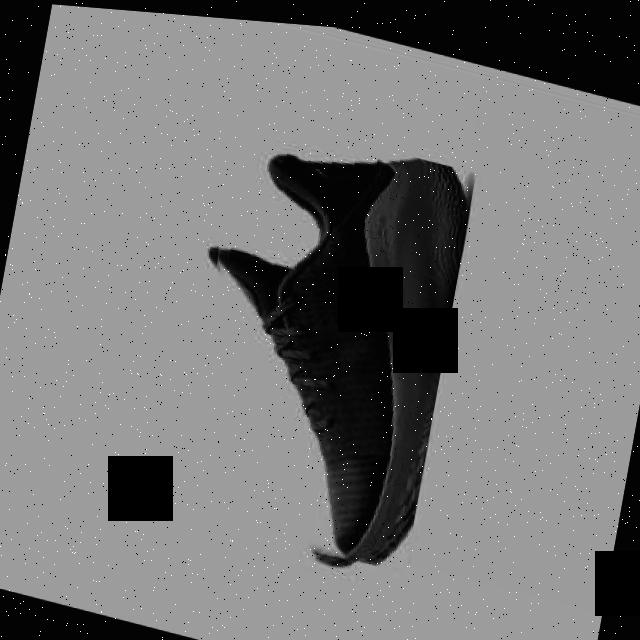shoe: (160, 102, 476, 578)
